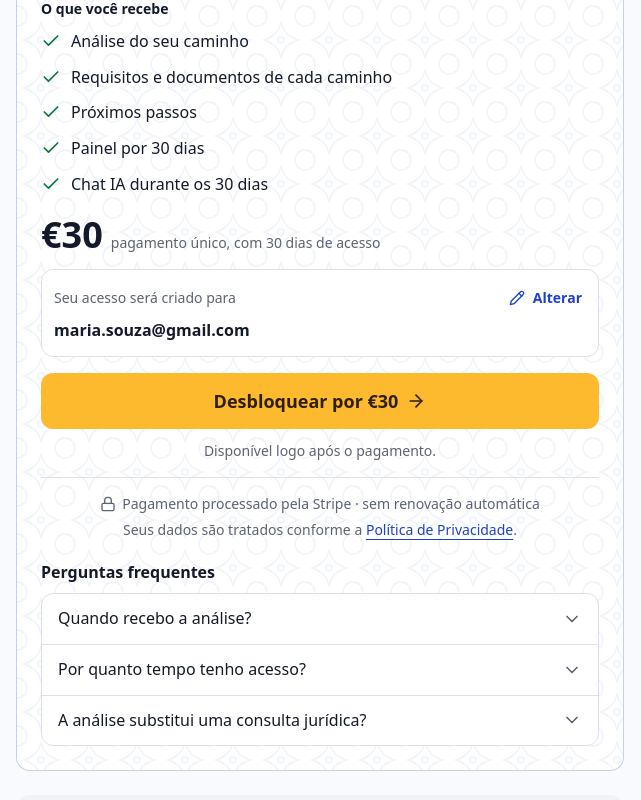
Scenario: ResultsPage › erro do pagamento aparece em português, logo abaixo do botão, com "Tentar novamente"
(page scrolled)
Step 1. Click the button with test id "results-cta-paywall" → (320, 401), box [41,373,599,429]
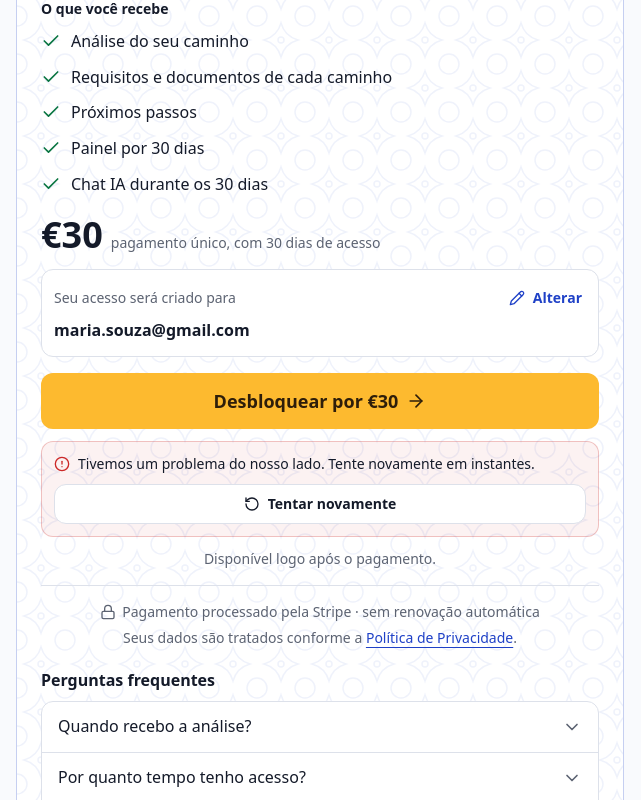
Expected: the message shows "problema do nosso lado", [78,454,535,473]
Expected: the button with test id "checkout-retry" is shown, [54,484,586,524]
